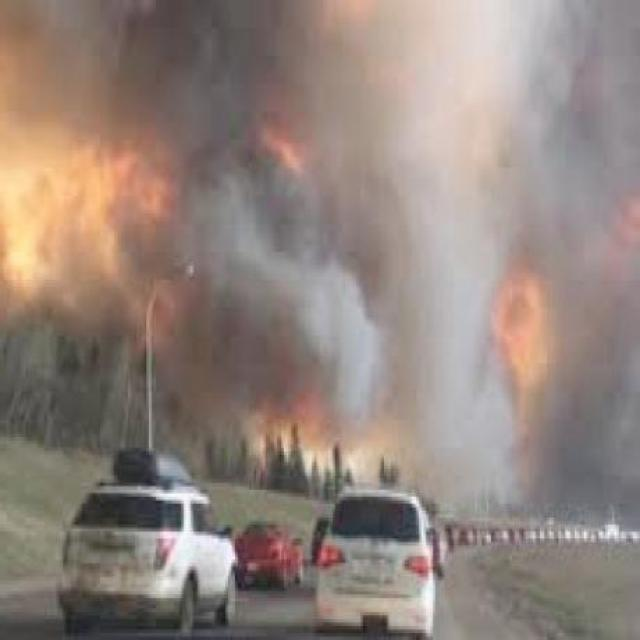Fire: (8, 124, 160, 319), (230, 404, 392, 500), (484, 282, 574, 438)
Smoke: (158, 130, 472, 408), (0, 1, 640, 124), (465, 120, 640, 281), (408, 434, 640, 534)
